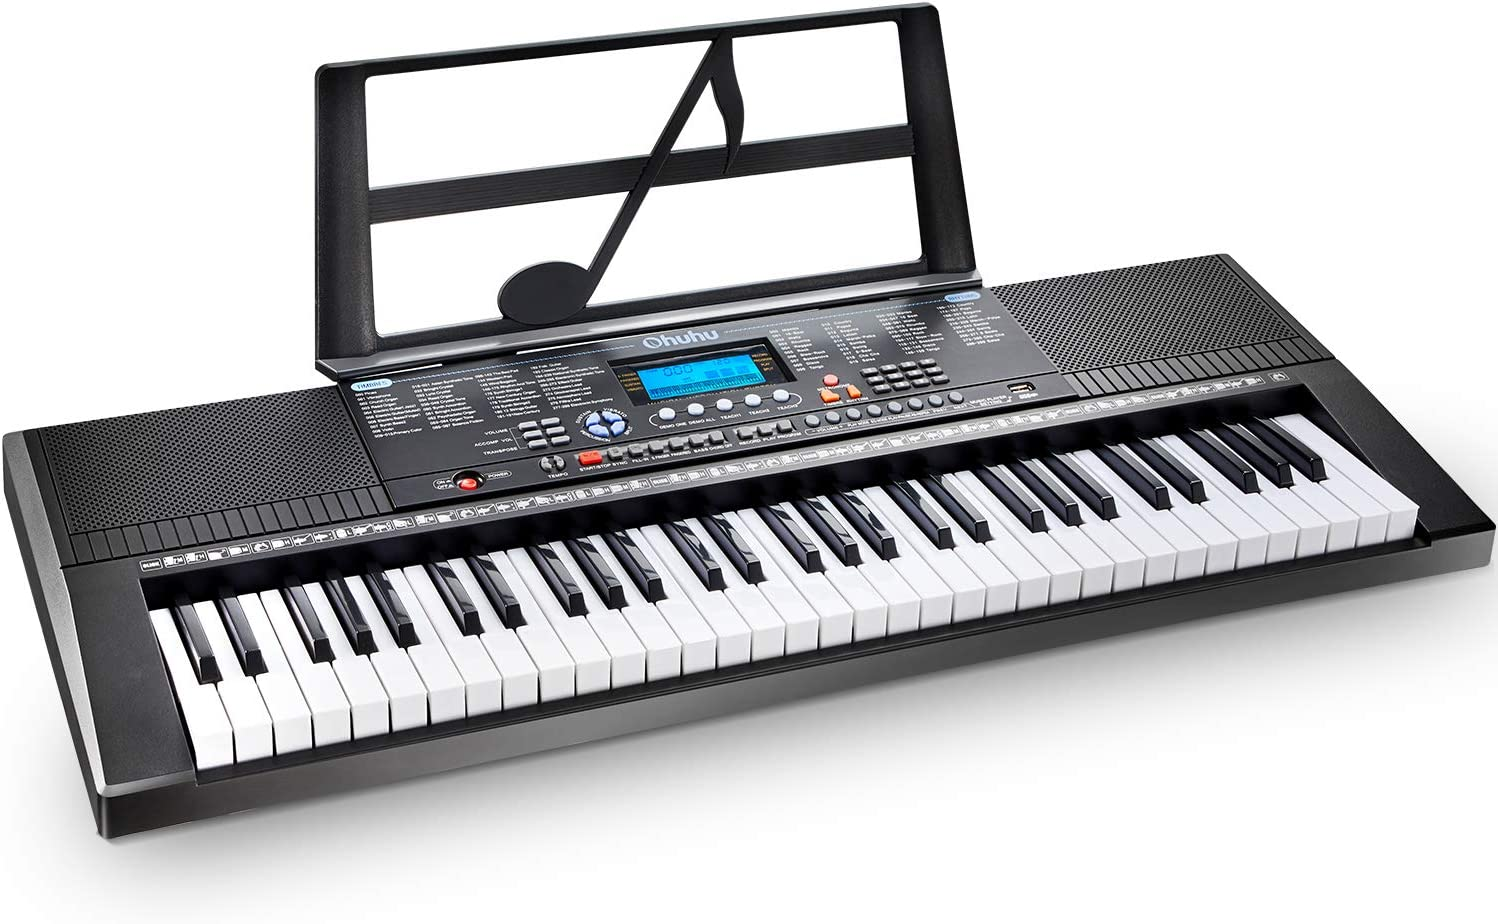piano: (2, 5, 1498, 854)
